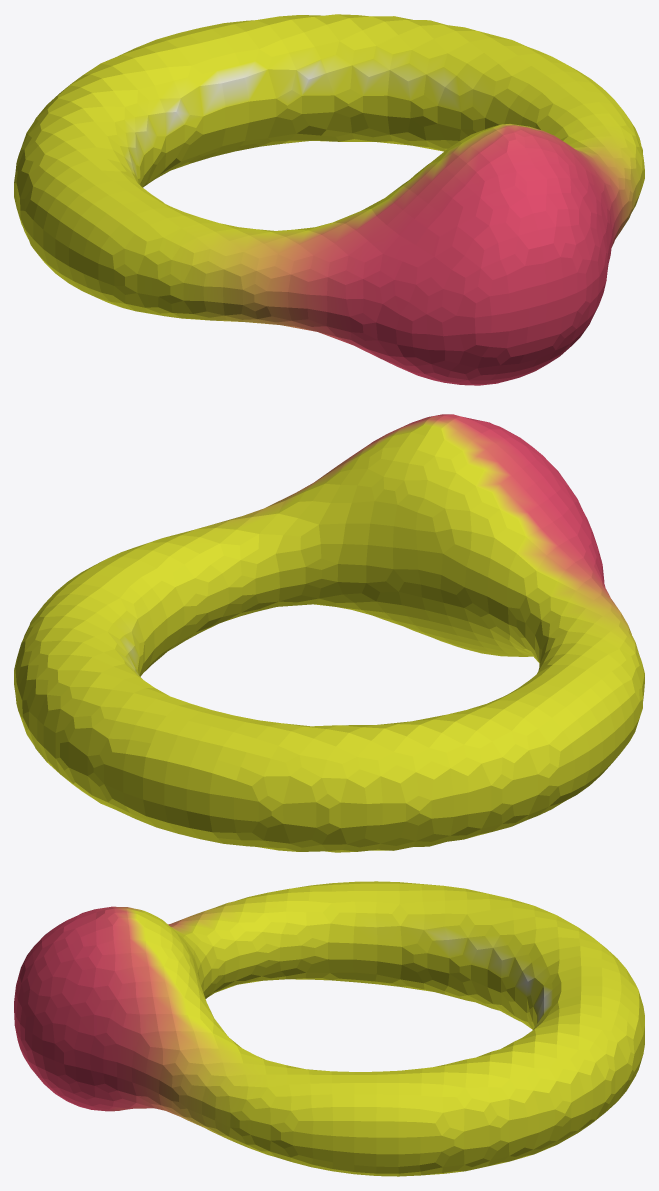
The model's file is ring.fbx.
3 views of the same model, one above another, from view 1: azimuth 30°, elevation 25°; view 2: azimuth 150°, elevation 25°; view 3: azimuth 270°, elevation 25° (orthographic). The views are drawn at different scales.
Parts seen in each view (by area): view 1: Torus.001; view 2: Torus.001; view 3: Torus.001.
Boxes of the visible parts, x1,y1,x2,y2 form: Torus.001: (14, 14, 644, 385); Torus.001: (14, 414, 644, 852); Torus.001: (14, 881, 644, 1176).
Size of the model in its own units: 244 by 98.35 by 278.
